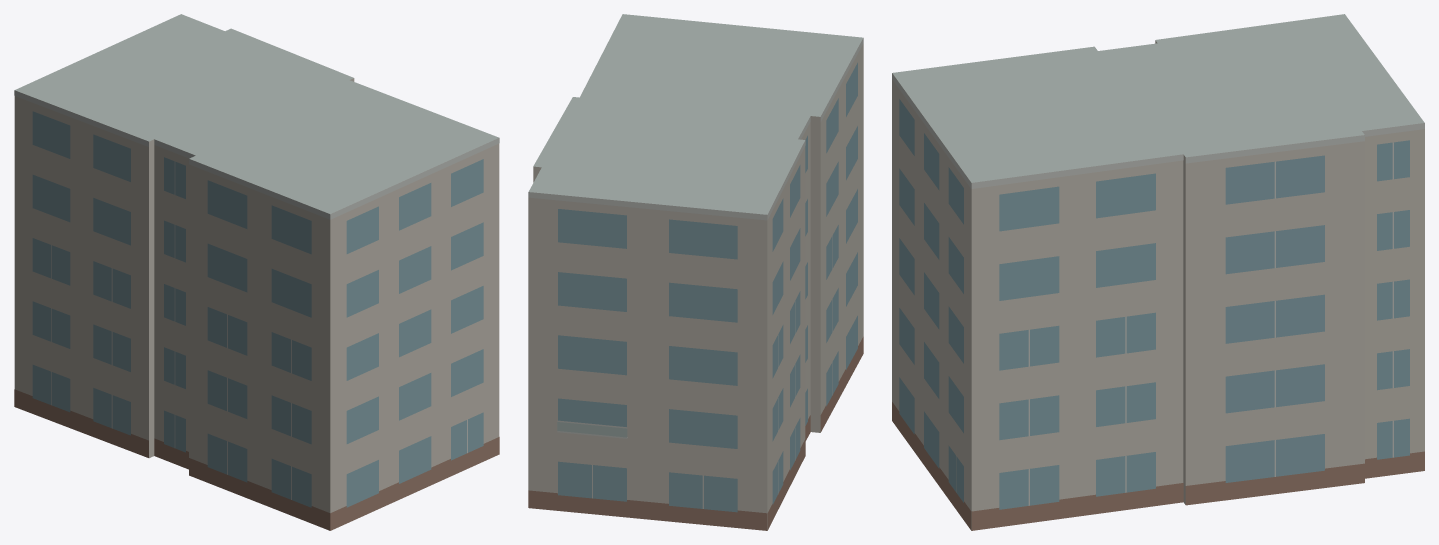
Rendered from survey-upis-32612593.glb.
3 views of the same model, side by side, from view 1: azimuth 30°, elevation 25°; view 2: azimuth 150°, elevation 25°; view 3: azimuth 270°, elevation 25° (orthographic). The views are drawn at different scales.
Parts seen in each view (by area): view 1: survey-upis-32612593.tmp; view 2: survey-upis-32612593.tmp; view 3: survey-upis-32612593.tmp.
Part boxes in pixels (x1,y1,x2,y2): survey-upis-32612593.tmp: (14,14,499,530); survey-upis-32612593.tmp: (528,14,863,530); survey-upis-32612593.tmp: (892,14,1424,530).
Bounding box in the file's own units: 14.33 × 13.75 × 19.09.
